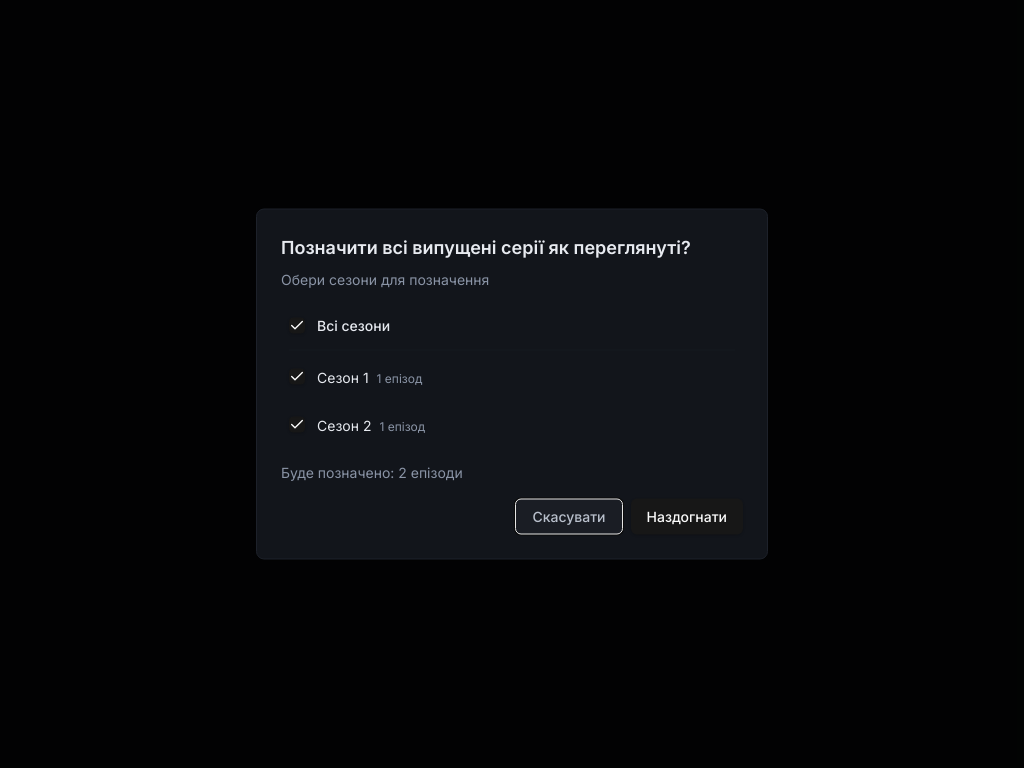
it: CatchUpDialog › confirm button disabled state › is disabled when all seasons are deselected
The image size is (1024, 768).
# Deselect all via master
Click the checkbox named "всі сезони" next to "Всі сезони". click: (297, 326)
box: x1=289 y1=318 x2=305 y2=334
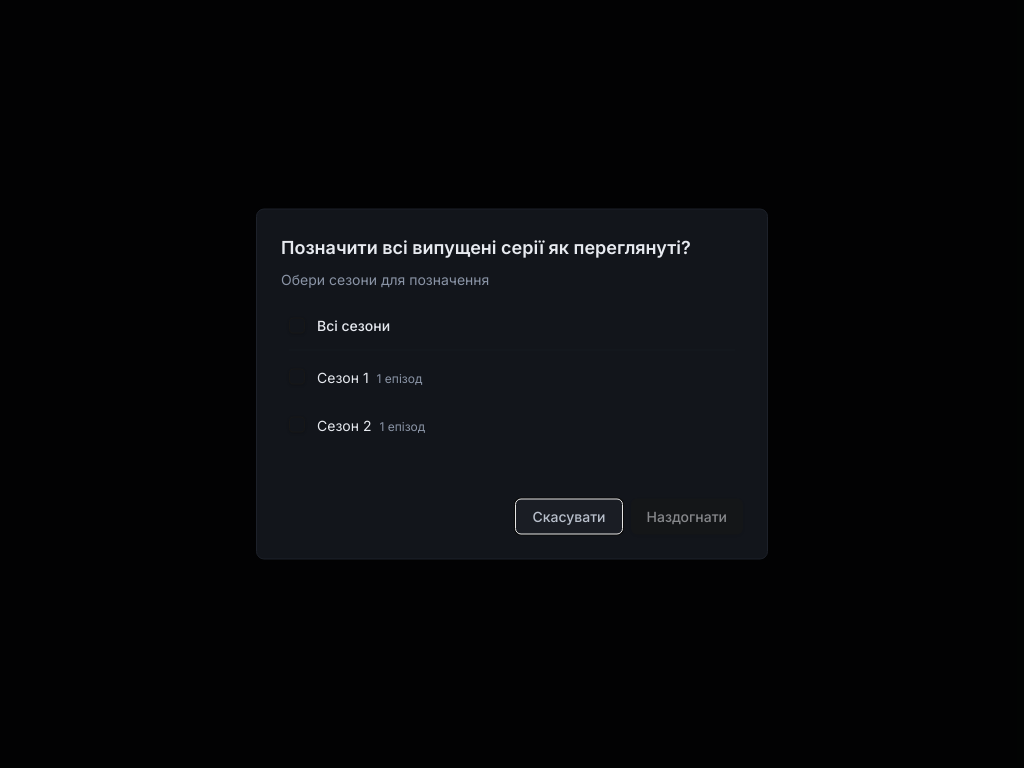
Now the button "Наздогнати" is disabled, box x1=630 y1=498 x2=743 y2=534
